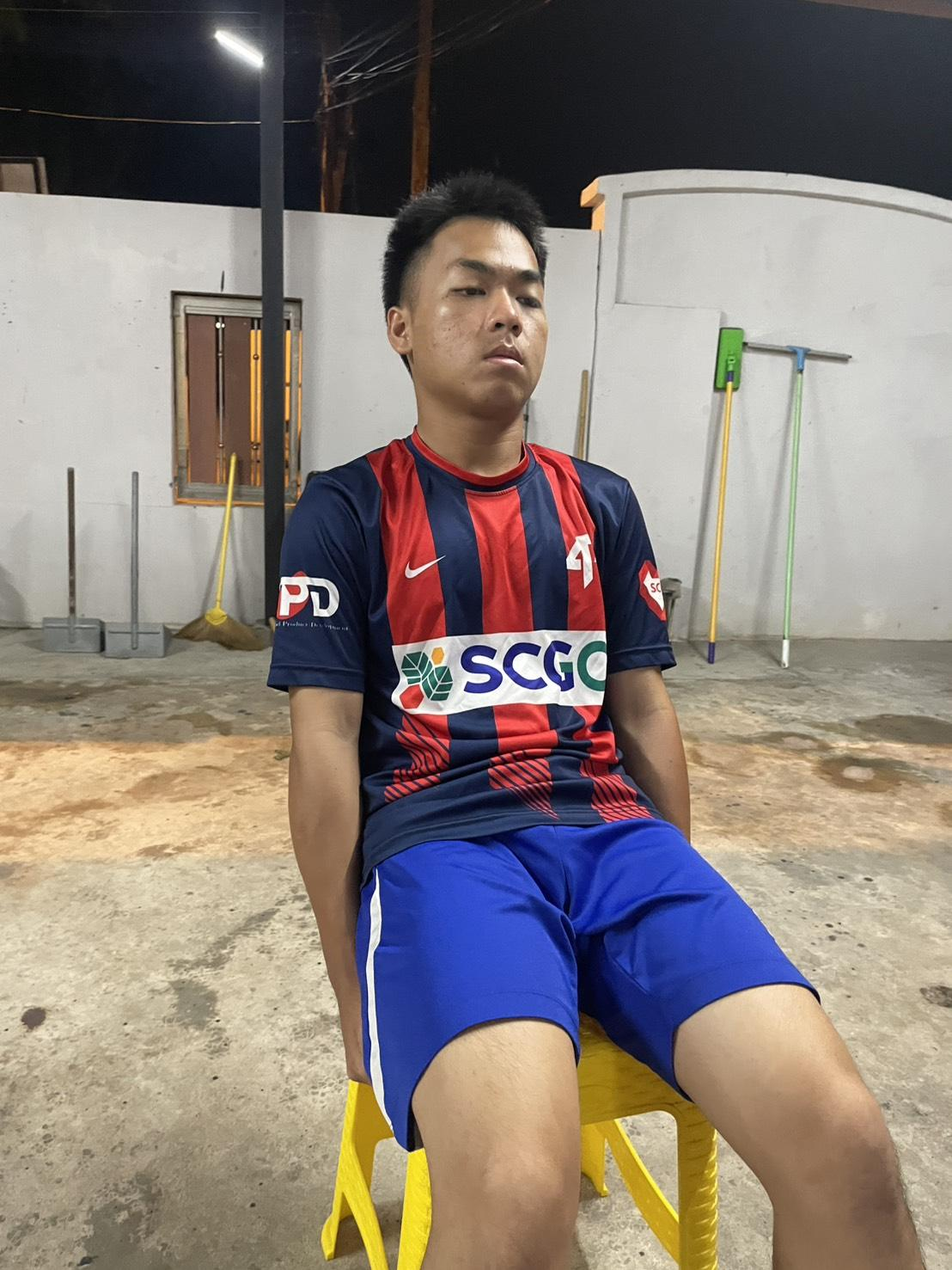BadPosture: (268, 174, 689, 894)
